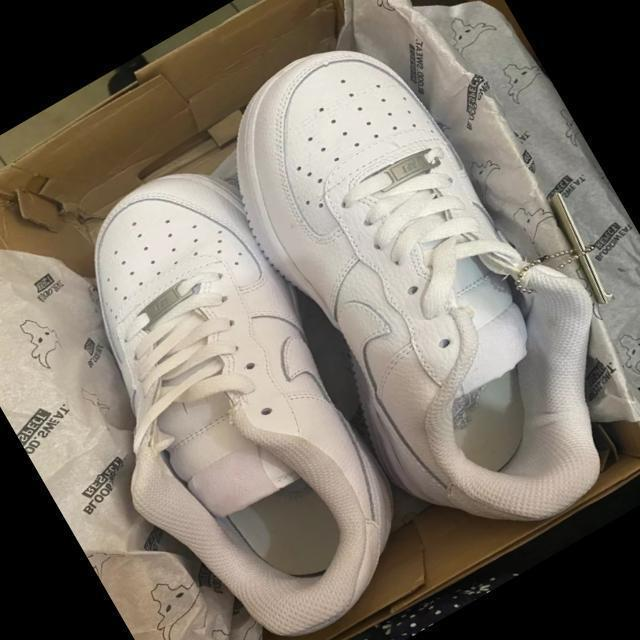nike fake air force: (188, 0, 640, 583), (0, 141, 471, 640)
